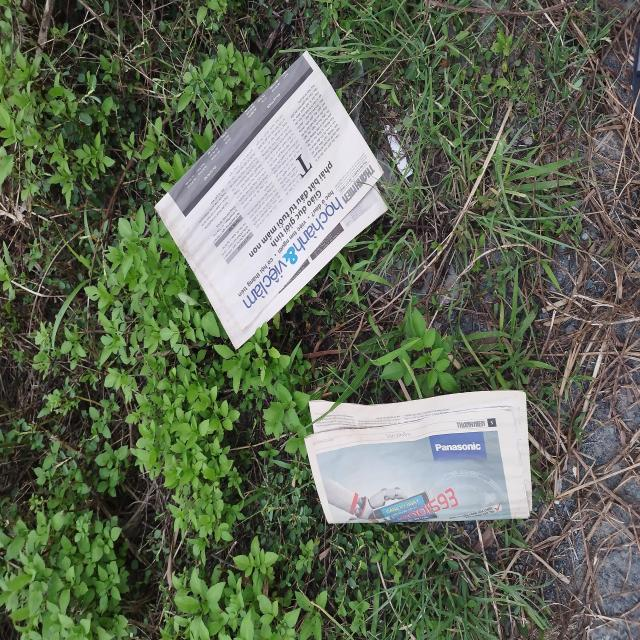paper: (154, 51, 390, 350), (306, 387, 534, 528)
